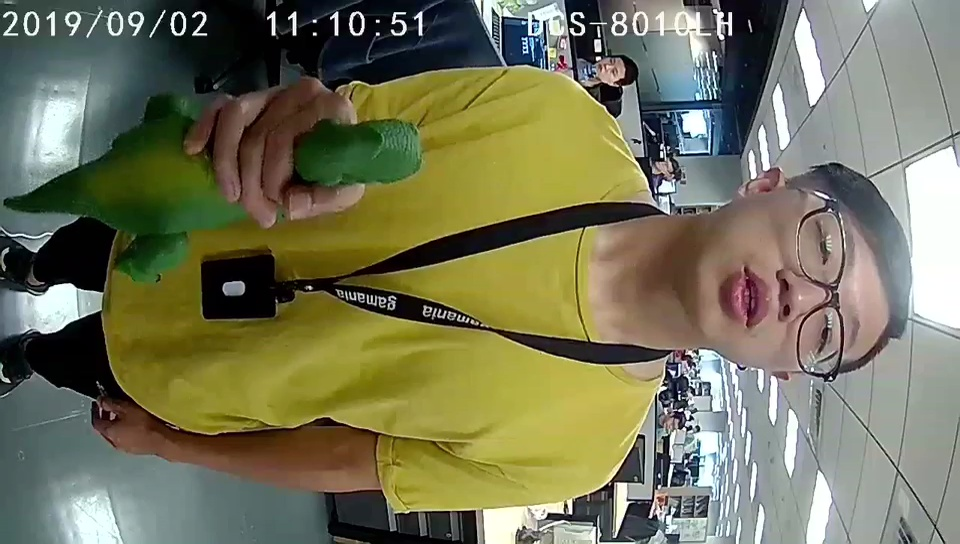rex: (111, 117, 425, 284)
